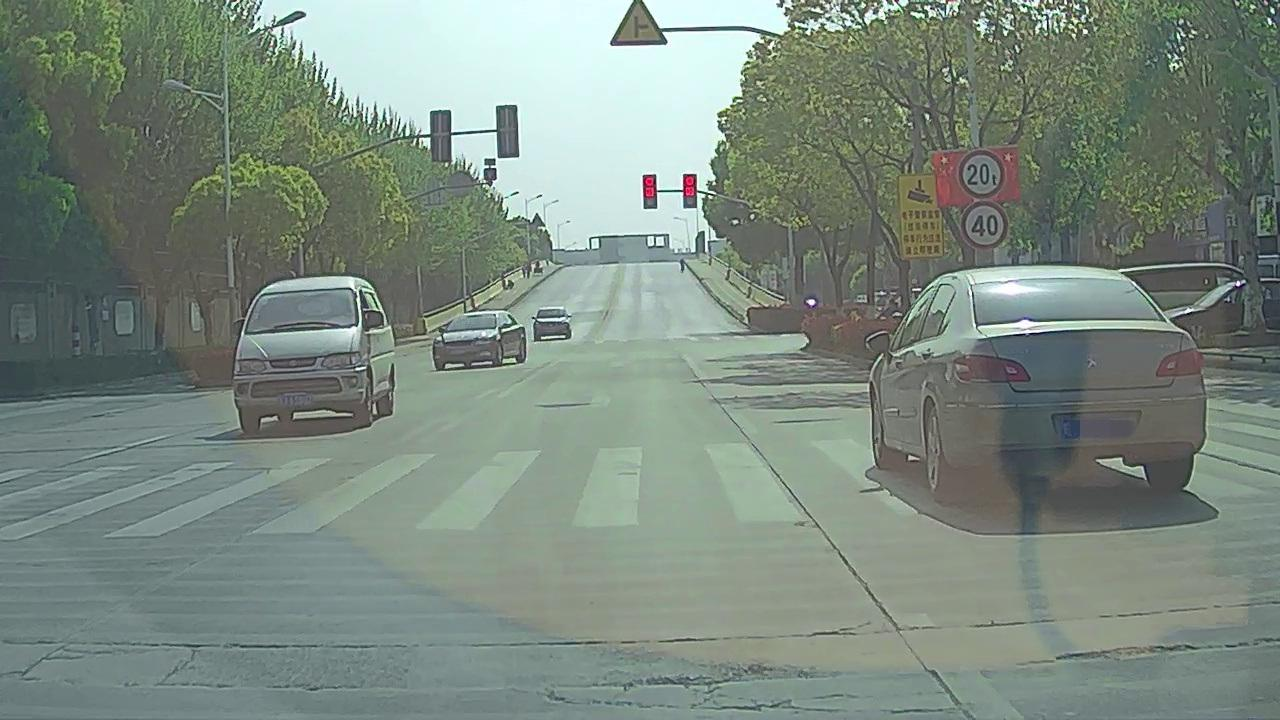traffic_light: (643, 174, 657, 209), (684, 173, 697, 207)
